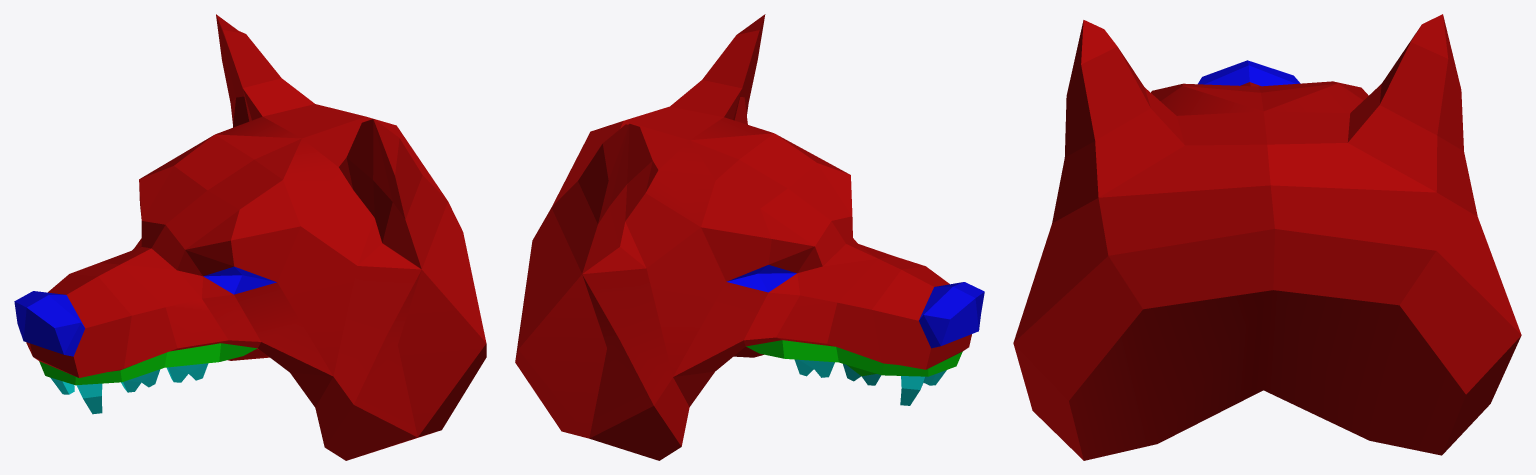
File: Chr_ShoulderAttachRight_Static_09.fbx
The picture shows the model from 3 angles, left to right: view 1: azimuth 30°, elevation 25°; view 2: azimuth 150°, elevation 25°; view 3: azimuth 270°, elevation 25°; orthographic projection. The views are drawn at different scales.
Visible parts, largest first — view 1: Chr_ShoulderAttachRight_09; view 2: Chr_ShoulderAttachRight_09; view 3: Chr_ShoulderAttachRight_09.
Boxes of the visible parts, box(x1,y1,x2,y2) form: Chr_ShoulderAttachRight_09: box(14, 14, 486, 460); Chr_ShoulderAttachRight_09: box(515, 14, 984, 460); Chr_ShoulderAttachRight_09: box(1013, 14, 1521, 460).
Size of the model in its own units: 29.5 by 23.68 by 26.84.
